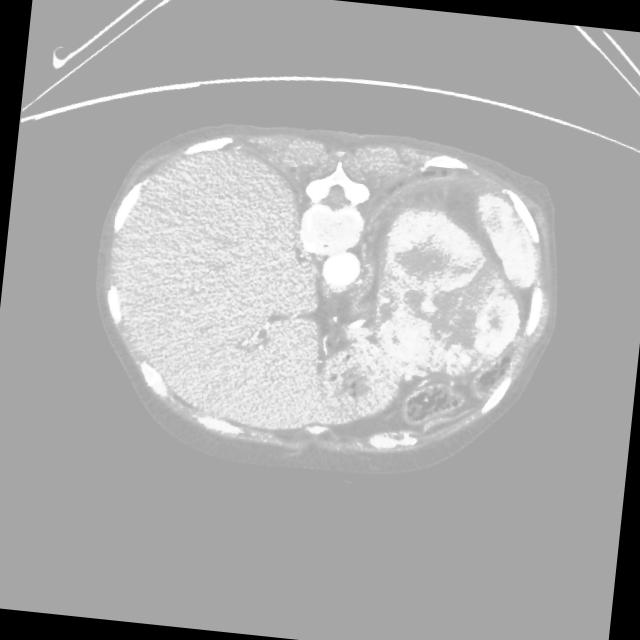TUMOR: (382, 129, 596, 382)
